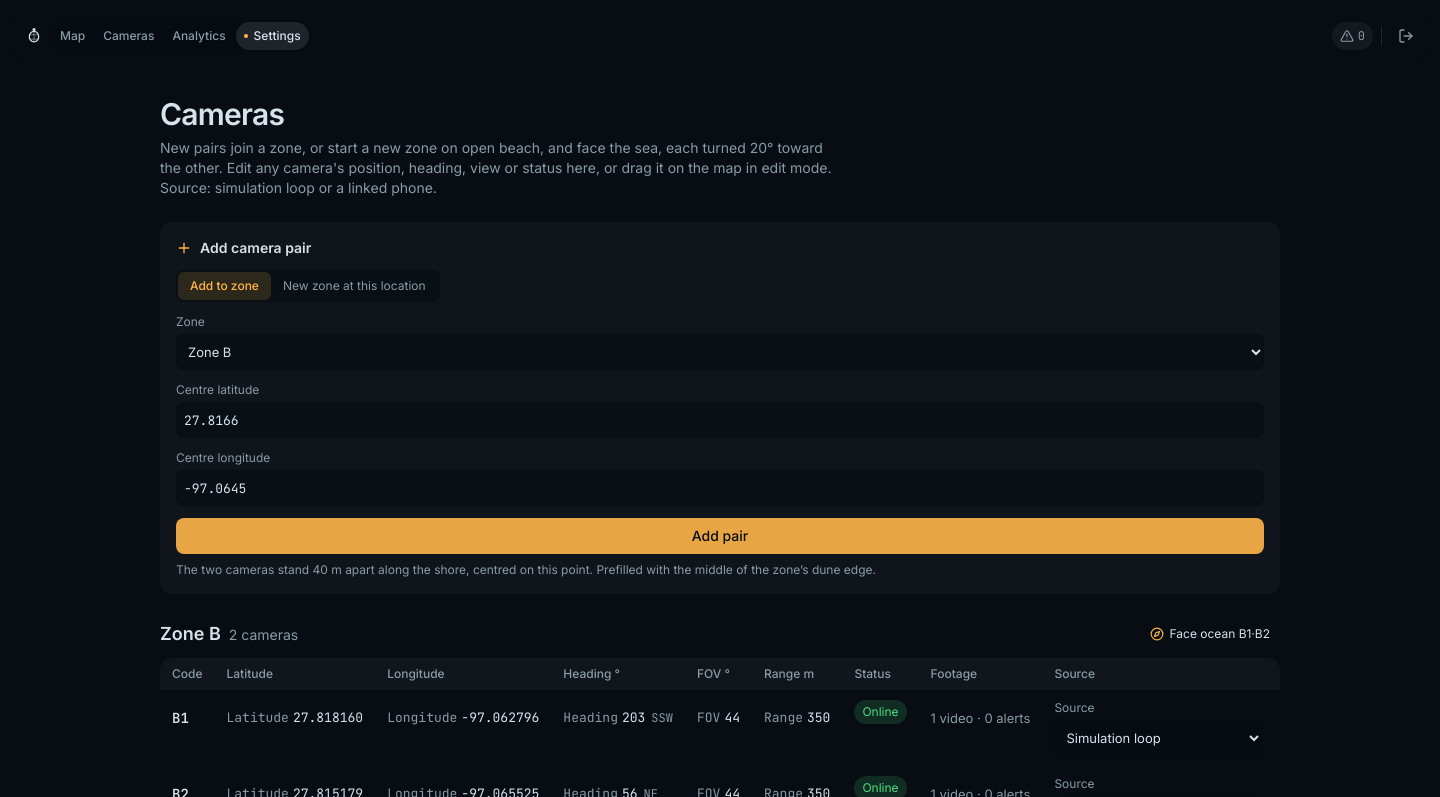
Test: CamerasScreen › makes a new zone at a typed point when that is chosen, and shows refusals
Expected: the radio button labelled "Add to zone" is checked, x1=178 y1=272 x2=271 y2=300
Click the radio button labelled "New zone at this location" at (354, 286), box x1=283 y1=278 x2=426 y2=293
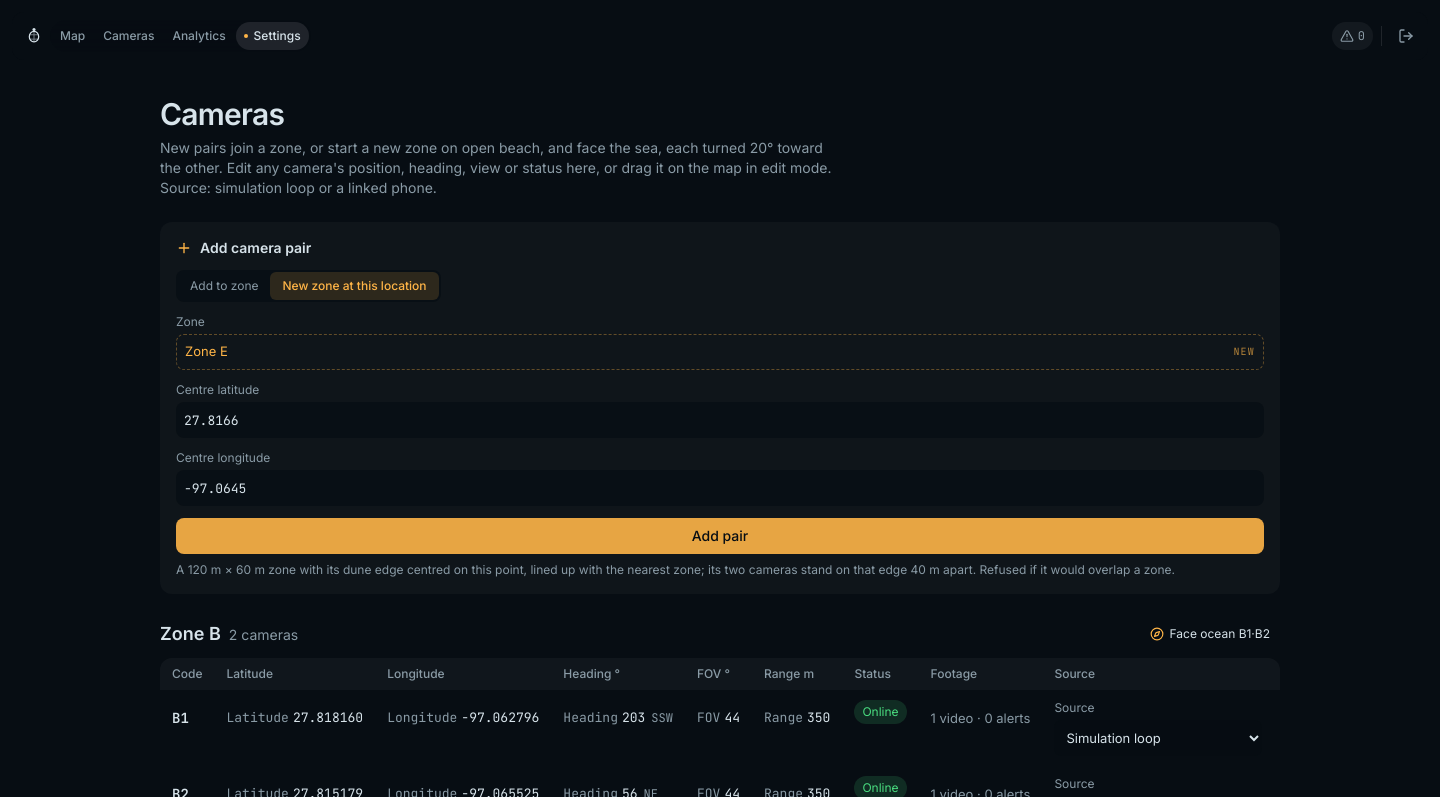
Result: the text with test id "next-zone" reads "Zone E" at x1=185 y1=343 x2=228 y2=359
Replace the text in the field labelled "Centre latitude" with "27.8312" at (720, 420), box x1=176 y1=402 x2=1264 y2=438
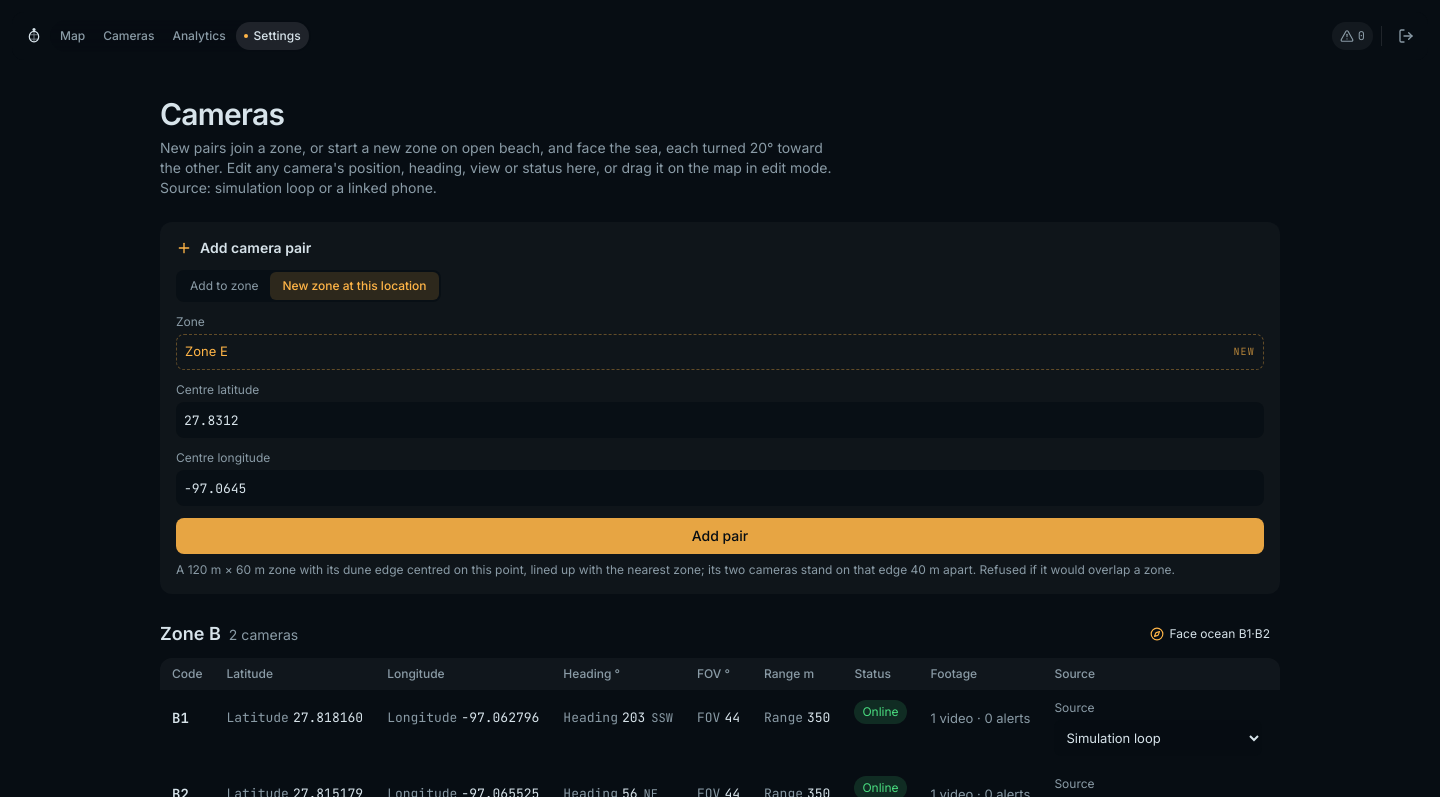
Replace the text in the field labelled "Centre longitude" with "-97.0512" at (720, 488), box x1=176 y1=470 x2=1264 y2=506
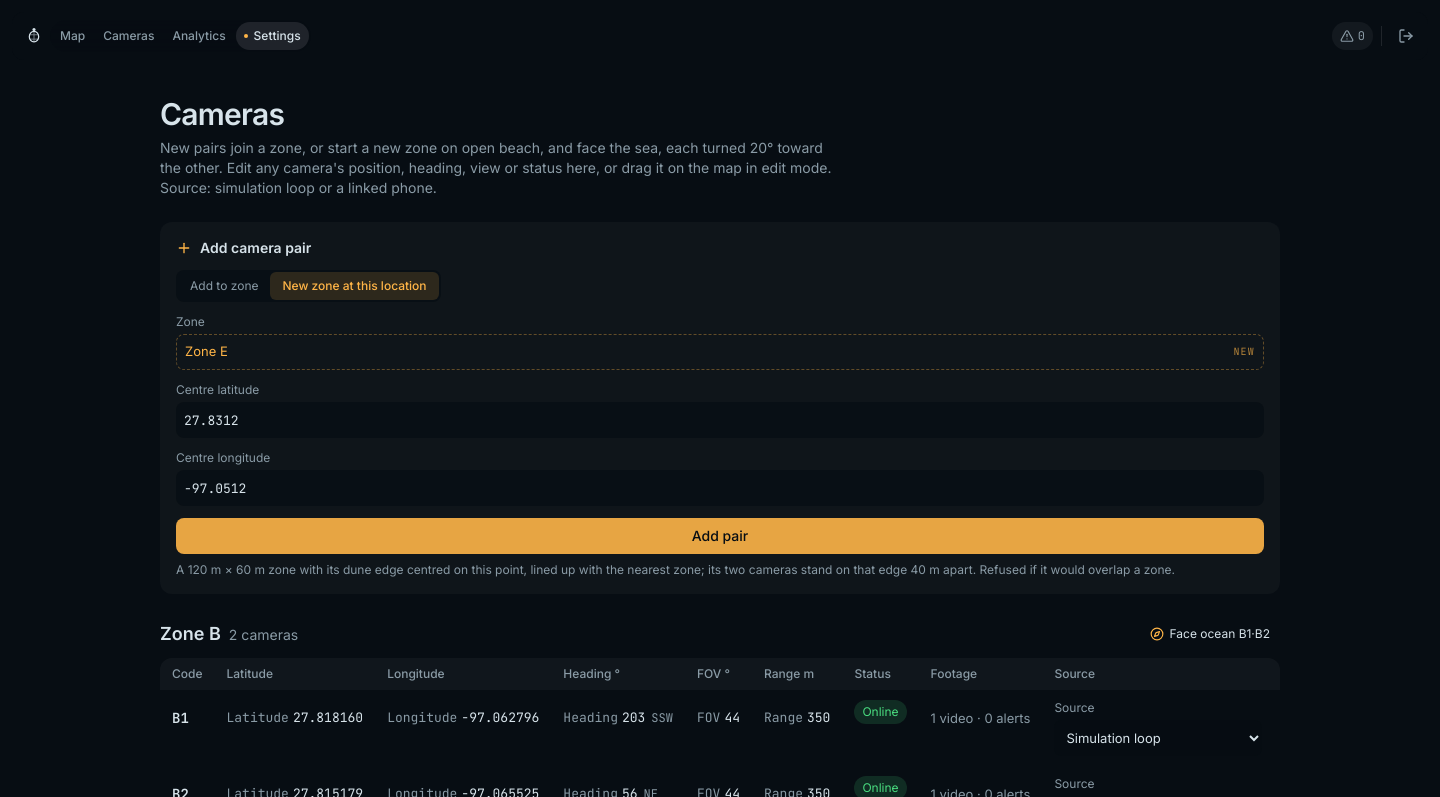
Click the button "Add pair" at (720, 536), box x1=176 y1=518 x2=1264 y2=554
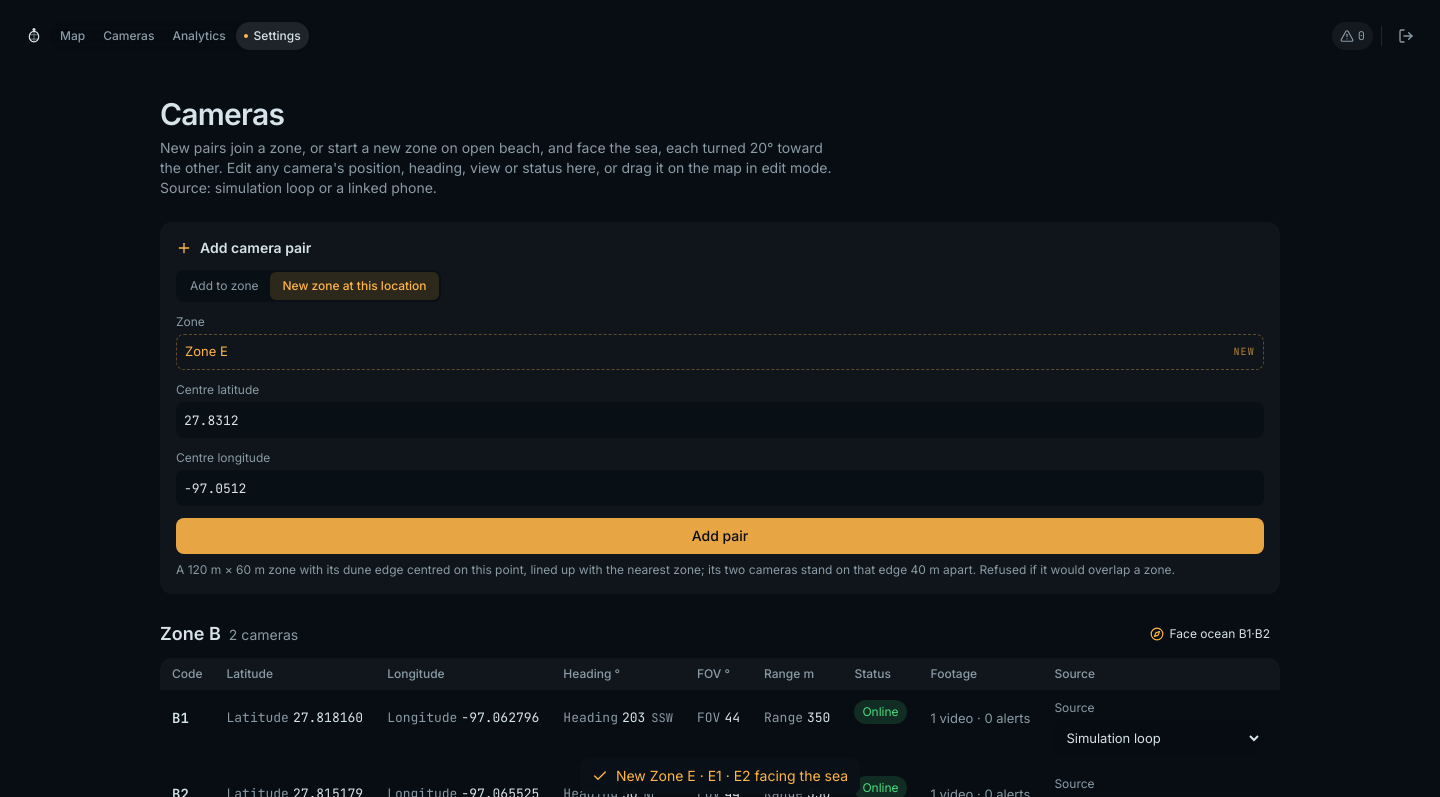
Result: the text "New Zone E · E1 · E2 facing the sea" is shown at x1=580 y1=758 x2=860 y2=794
Click the button "Add pair" at (720, 536), box x1=176 y1=518 x2=1264 y2=554
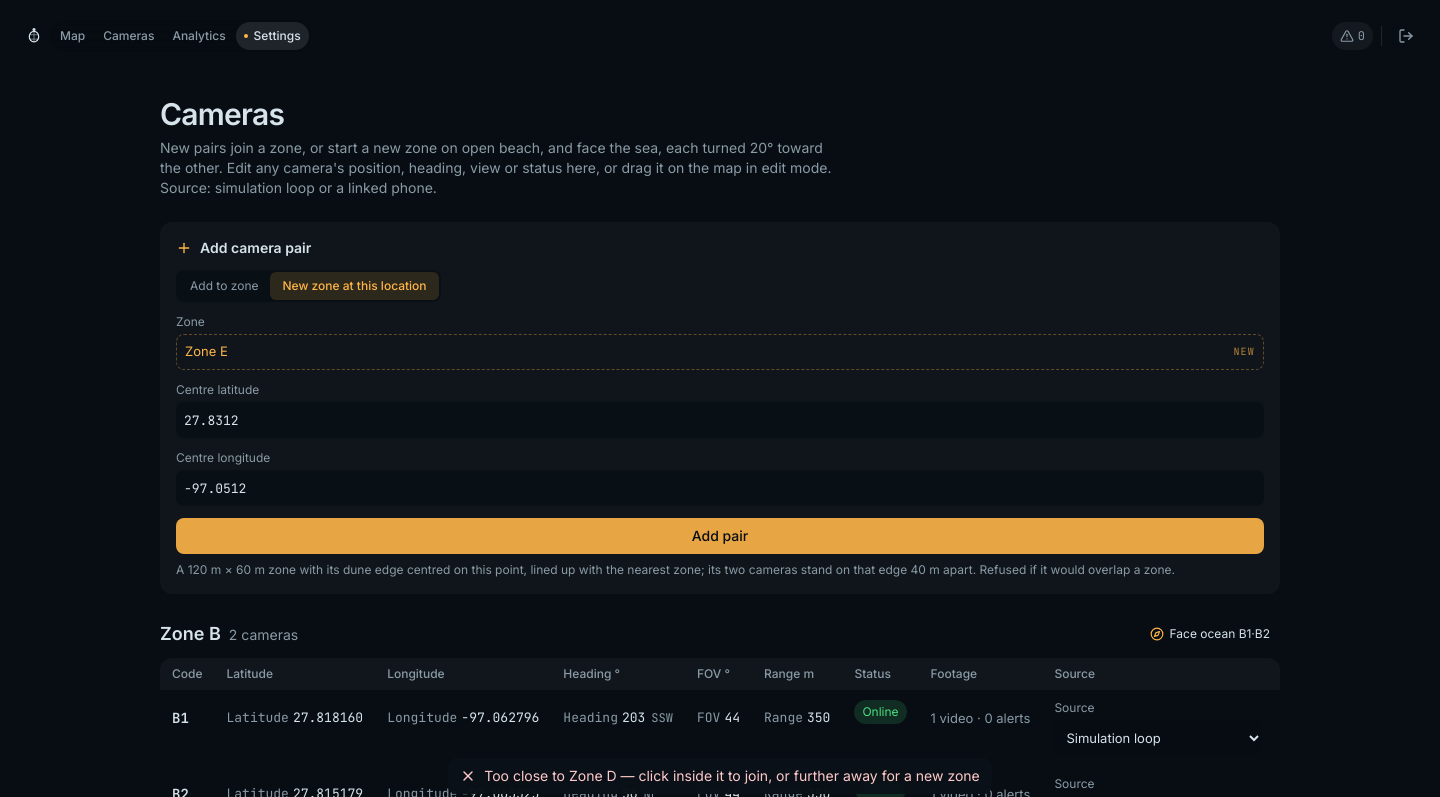
Result: the text "Too close to Zone D" is shown at x1=484 y1=767 x2=980 y2=784
